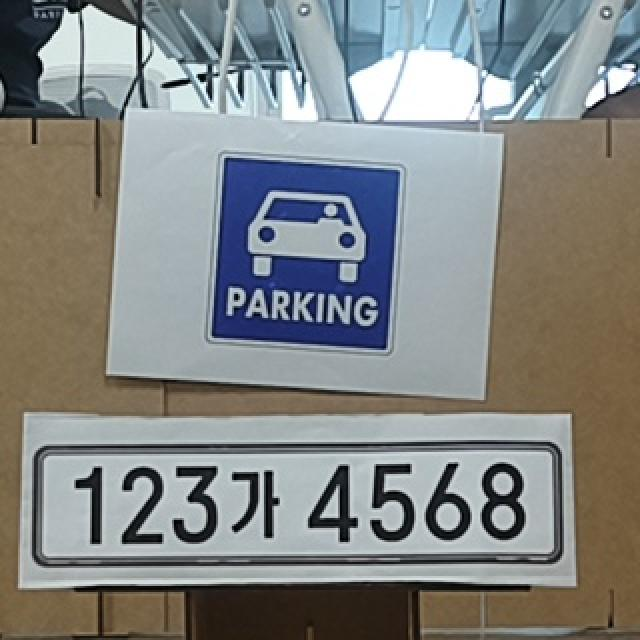normal: (30, 446, 561, 556)
